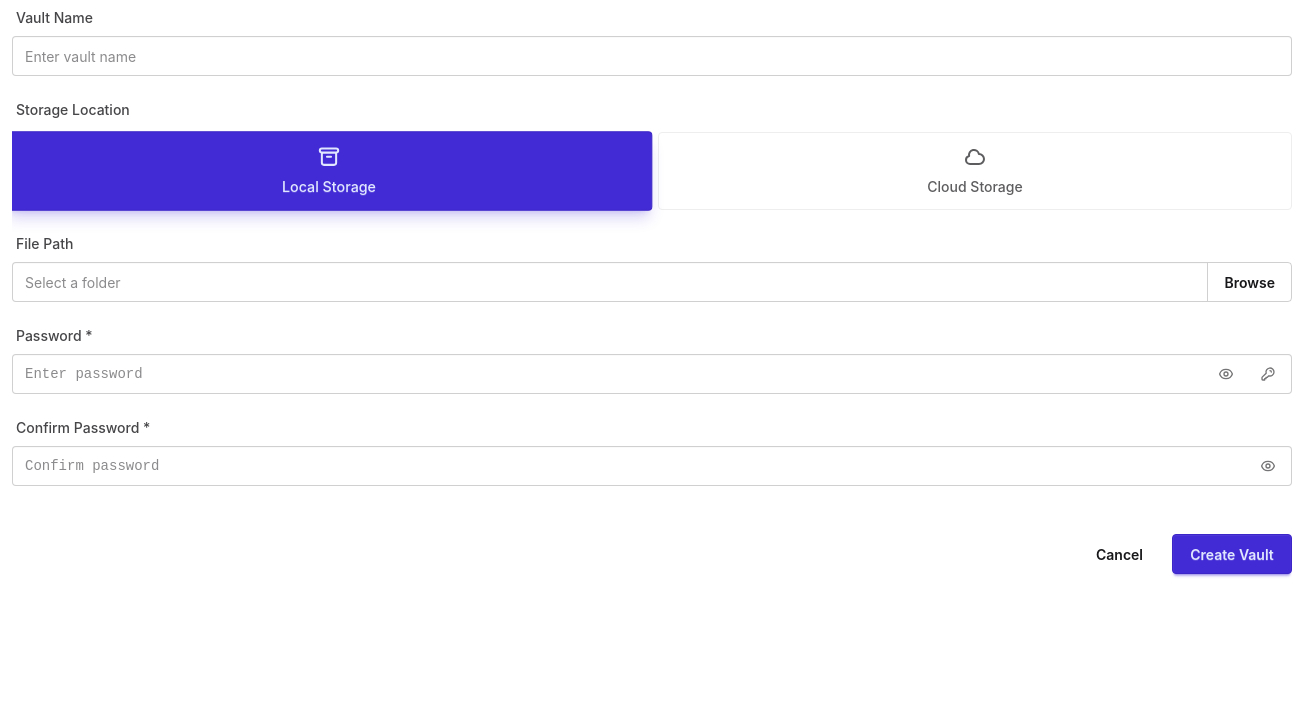
Scenario: AddVaultForm with Cloud Storage › Form Validation › should validate required fields for local vault
Click the button "Create Vault". click: (1232, 554)
box: [1172,534,1292,574]
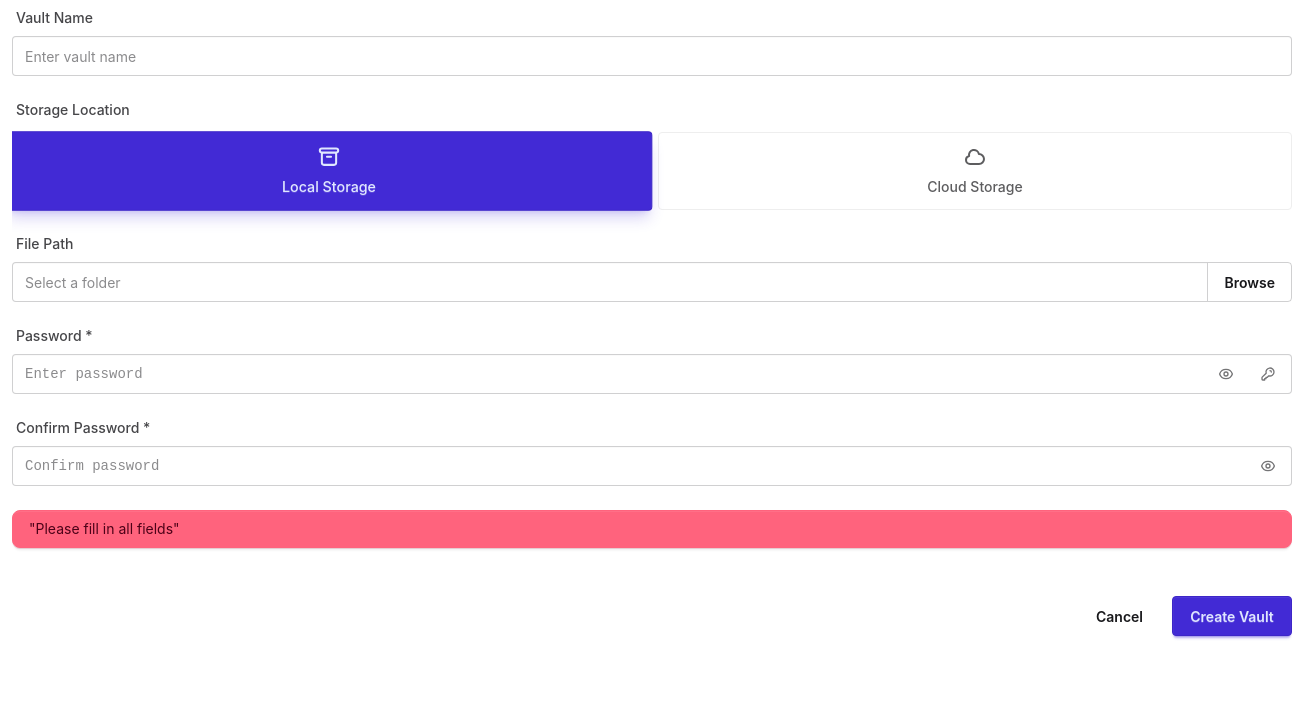
Expected: the text "\"Please fill in all fields\"" is shown, [29,519,180,539]
